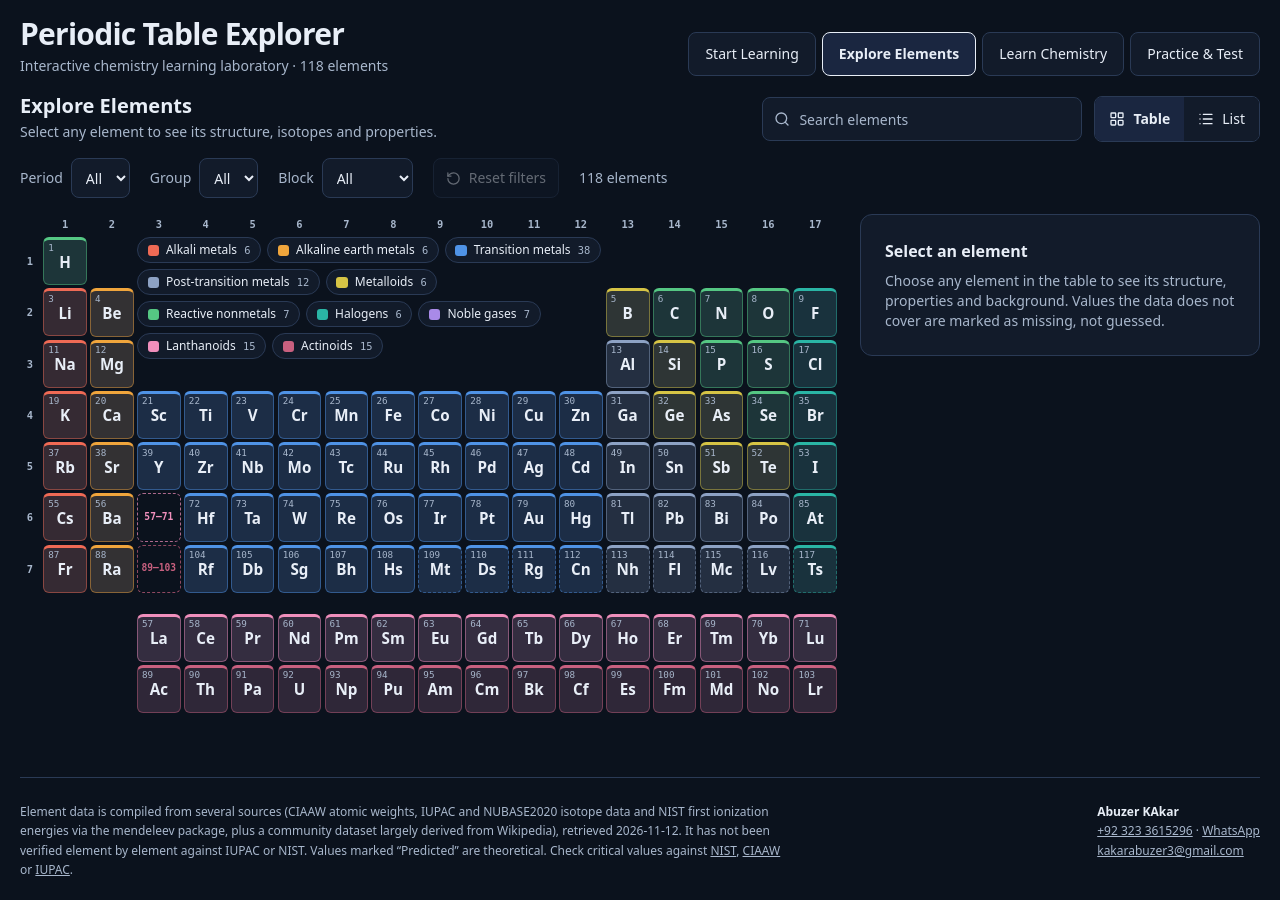
Scenario: practice and test › survives corrupt saved progress
Click the button "Practice & Test": (1195, 54) [1130,32,1260,76]
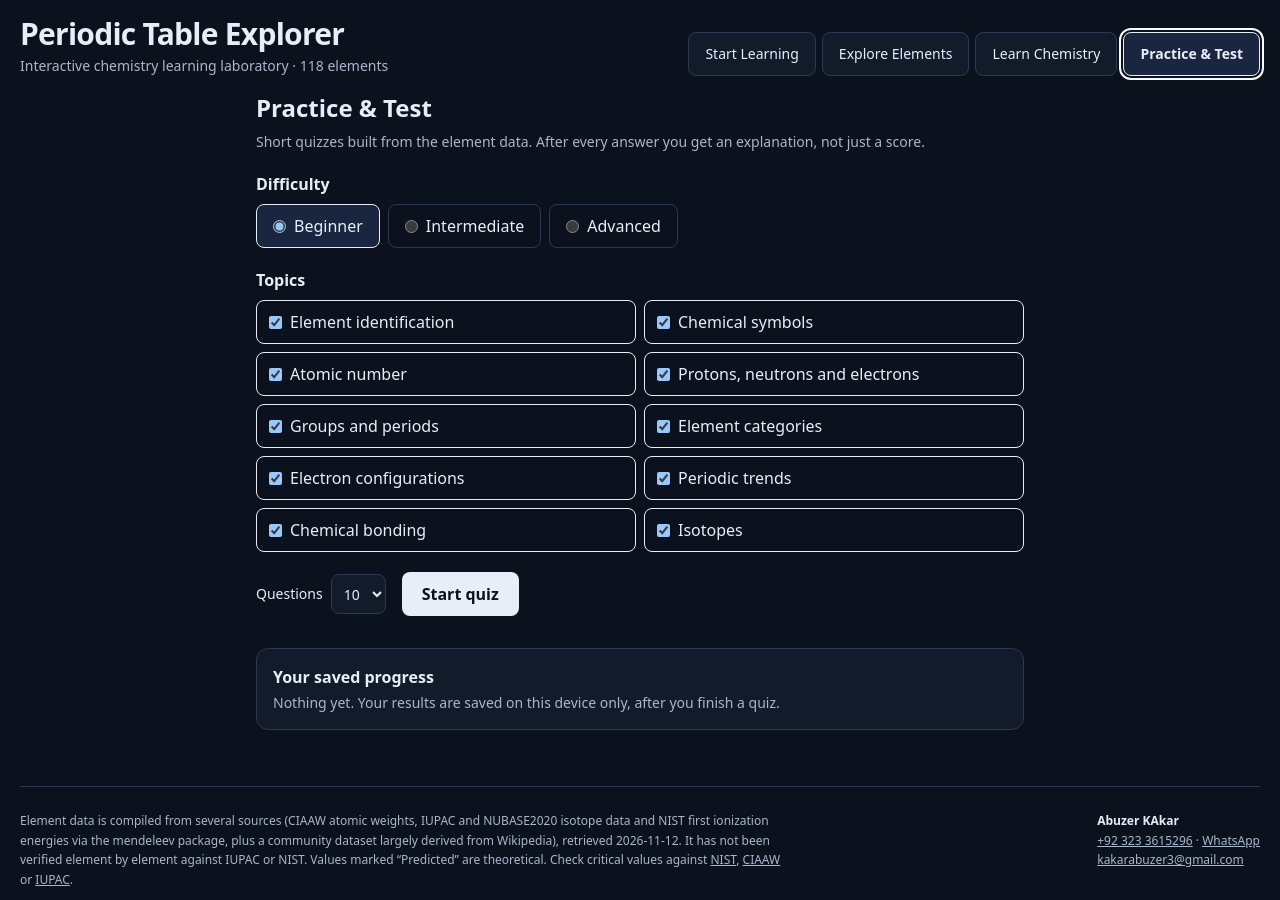
Check: the text "Nothing yet" is shown, box [273,693,780,712]
